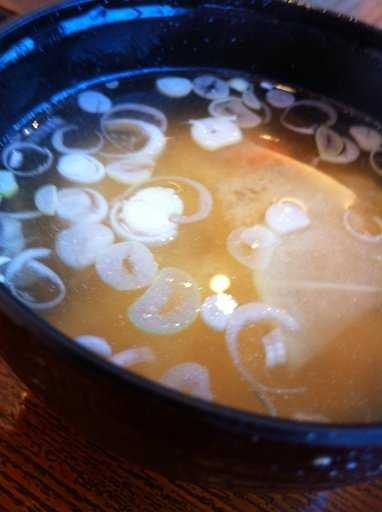soup: (11, 33, 382, 435)
